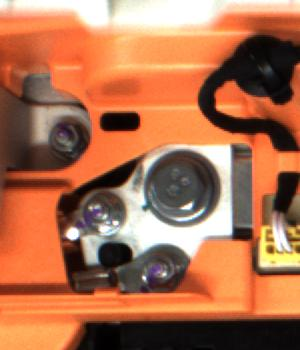nut_b: (140, 147, 221, 225)
screw_s: (84, 187, 121, 234), (140, 251, 180, 292), (46, 118, 83, 155)
